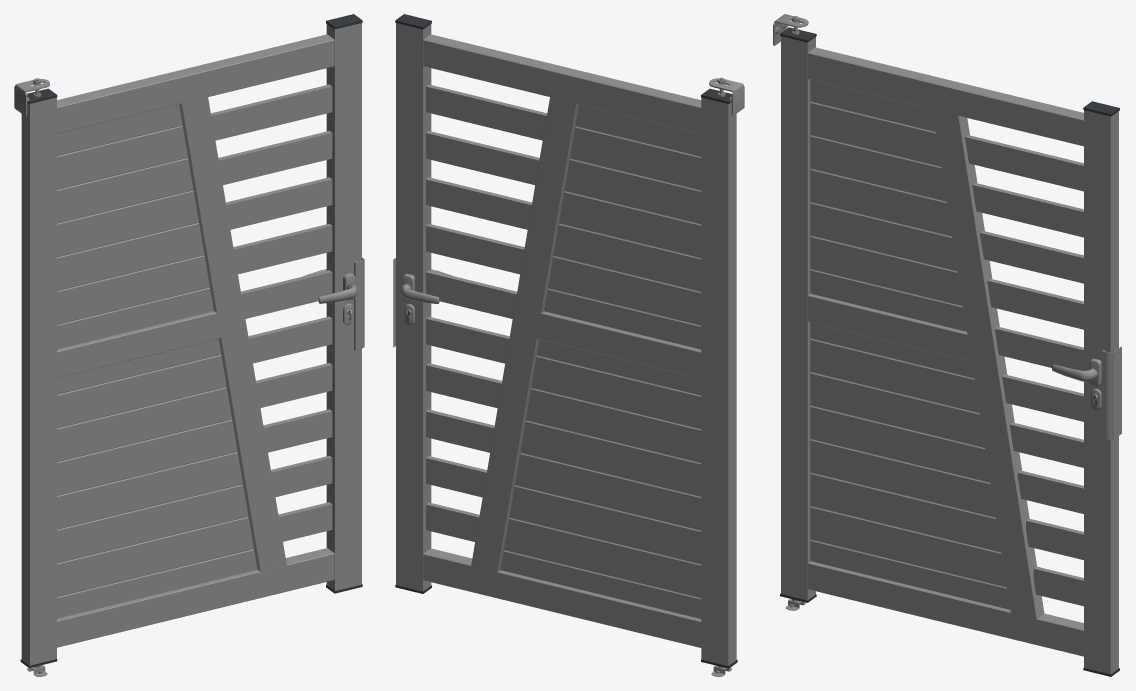
3 renders of one model, left to right at view 1: azimuth 30°, elevation 25°; view 2: azimuth 150°, elevation 25°; view 3: azimuth 330°, elevation 25°, orthographic.
Visible parts, largest first — view 1: Shape107412643, Shape107412638, Shape107411807, Shape107411813, Shape107411811, Line042, Line041, Line040, Line039, Line038, Line037, Line034 (+21 smaller); view 2: Shape107412643, Shape107412638, Shape107411807, Shape107411813, Shape107411811, Line042, Line041, Line040, Line039, Line038, Line037, Line034 (+20 smaller); view 3: Shape107412638, Shape107412643, Shape107411807, Shape107411813, Shape107411811, Line042, Line041, Line040, Line039, Line038, Line037, Line034 (+20 smaller).
Boxes of the visible parts, box(x1,y1,x2,y2) form: Shape107412643: box(21, 97, 56, 665); Shape107412638: box(326, 23, 361, 590); Shape107411807: box(179, 97, 286, 571); Shape107411813: box(57, 34, 334, 133); Shape107411811: box(57, 548, 334, 647); Line042: box(57, 517, 253, 596); Line041: box(57, 484, 248, 563); Line040: box(57, 452, 242, 529); Line039: box(57, 419, 237, 495); Line038: box(57, 387, 231, 461); Line037: box(57, 354, 226, 428); Line034: box(57, 255, 209, 324); Shape107412643: box(701, 97, 736, 665); Shape107412638: box(396, 23, 431, 591); Shape107411807: box(471, 84, 578, 577); Shape107411813: box(423, 34, 701, 133); Shape107411811: box(423, 548, 701, 647); Line042: box(504, 518, 701, 598); Line041: box(509, 485, 701, 564); Line040: box(515, 453, 701, 530); Line039: box(520, 420, 701, 496); Line038: box(526, 388, 701, 462); Line037: box(531, 356, 701, 429); Line034: box(548, 256, 701, 325); Shape107412638: box(1084, 110, 1118, 674); Shape107412643: box(781, 36, 815, 600); Shape107411807: box(932, 109, 1044, 619); Shape107411813: box(808, 47, 1083, 146); Shape107411811: box(808, 561, 1083, 656); Line042: box(810, 506, 1006, 587); Line041: box(810, 473, 1001, 552); Line040: box(810, 439, 995, 517); Line039: box(810, 406, 990, 482); Line038: box(810, 372, 984, 447); Line037: box(810, 339, 979, 413); Line034: box(810, 236, 962, 306).
Bounding box in the file's own units: 1015 × 1688 × 152.
7 materials, 4 textured.
